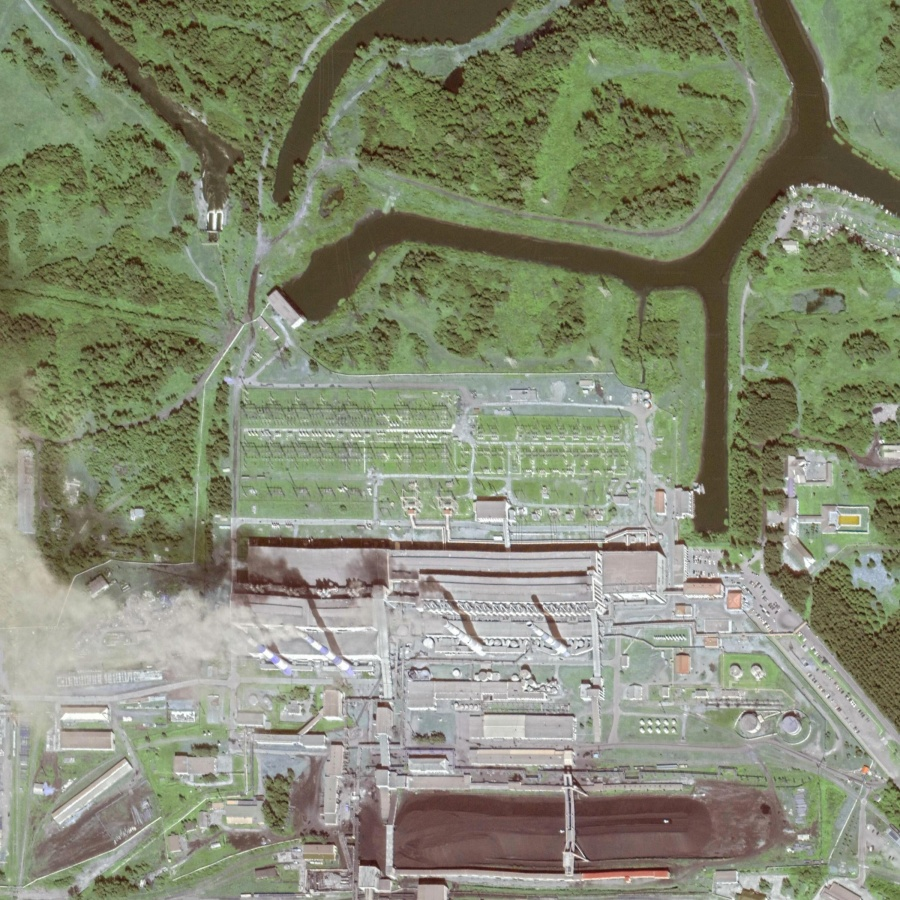PowerPlant: (206, 543, 806, 885)
